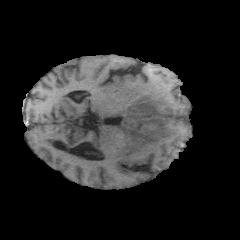glioma: (114, 75, 178, 151)
